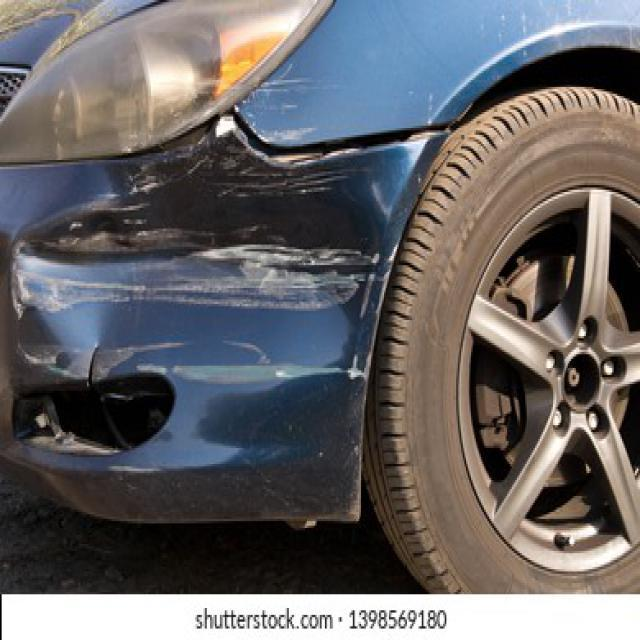front-bumper-dent: (0, 133, 453, 524)
